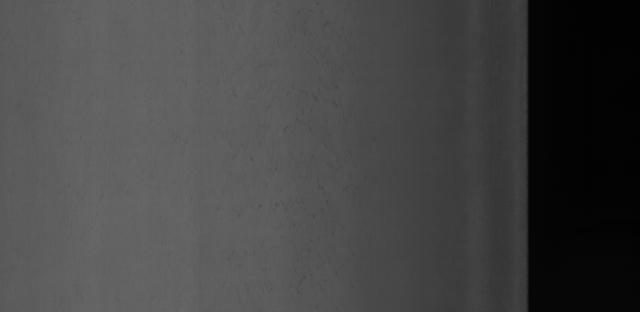silk_spot: (222, 71, 358, 244)
